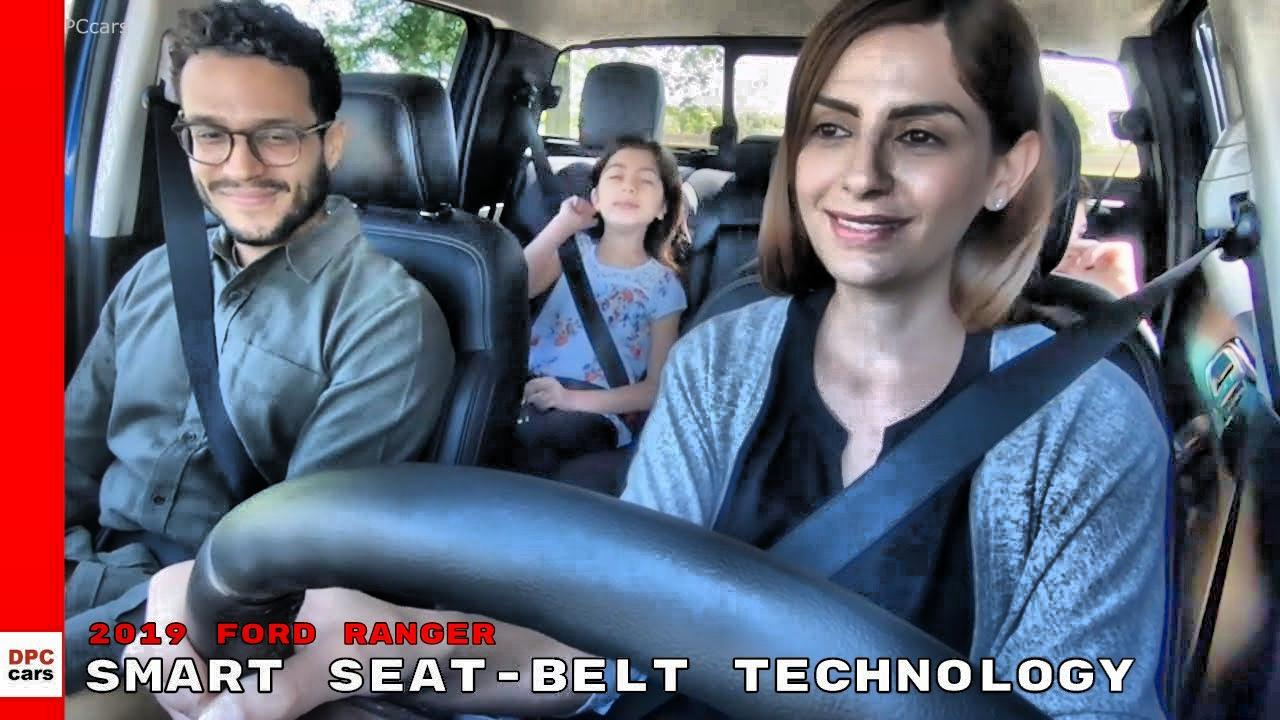seatbelt: (781, 195, 1257, 588), (144, 73, 267, 507), (517, 81, 639, 432)
